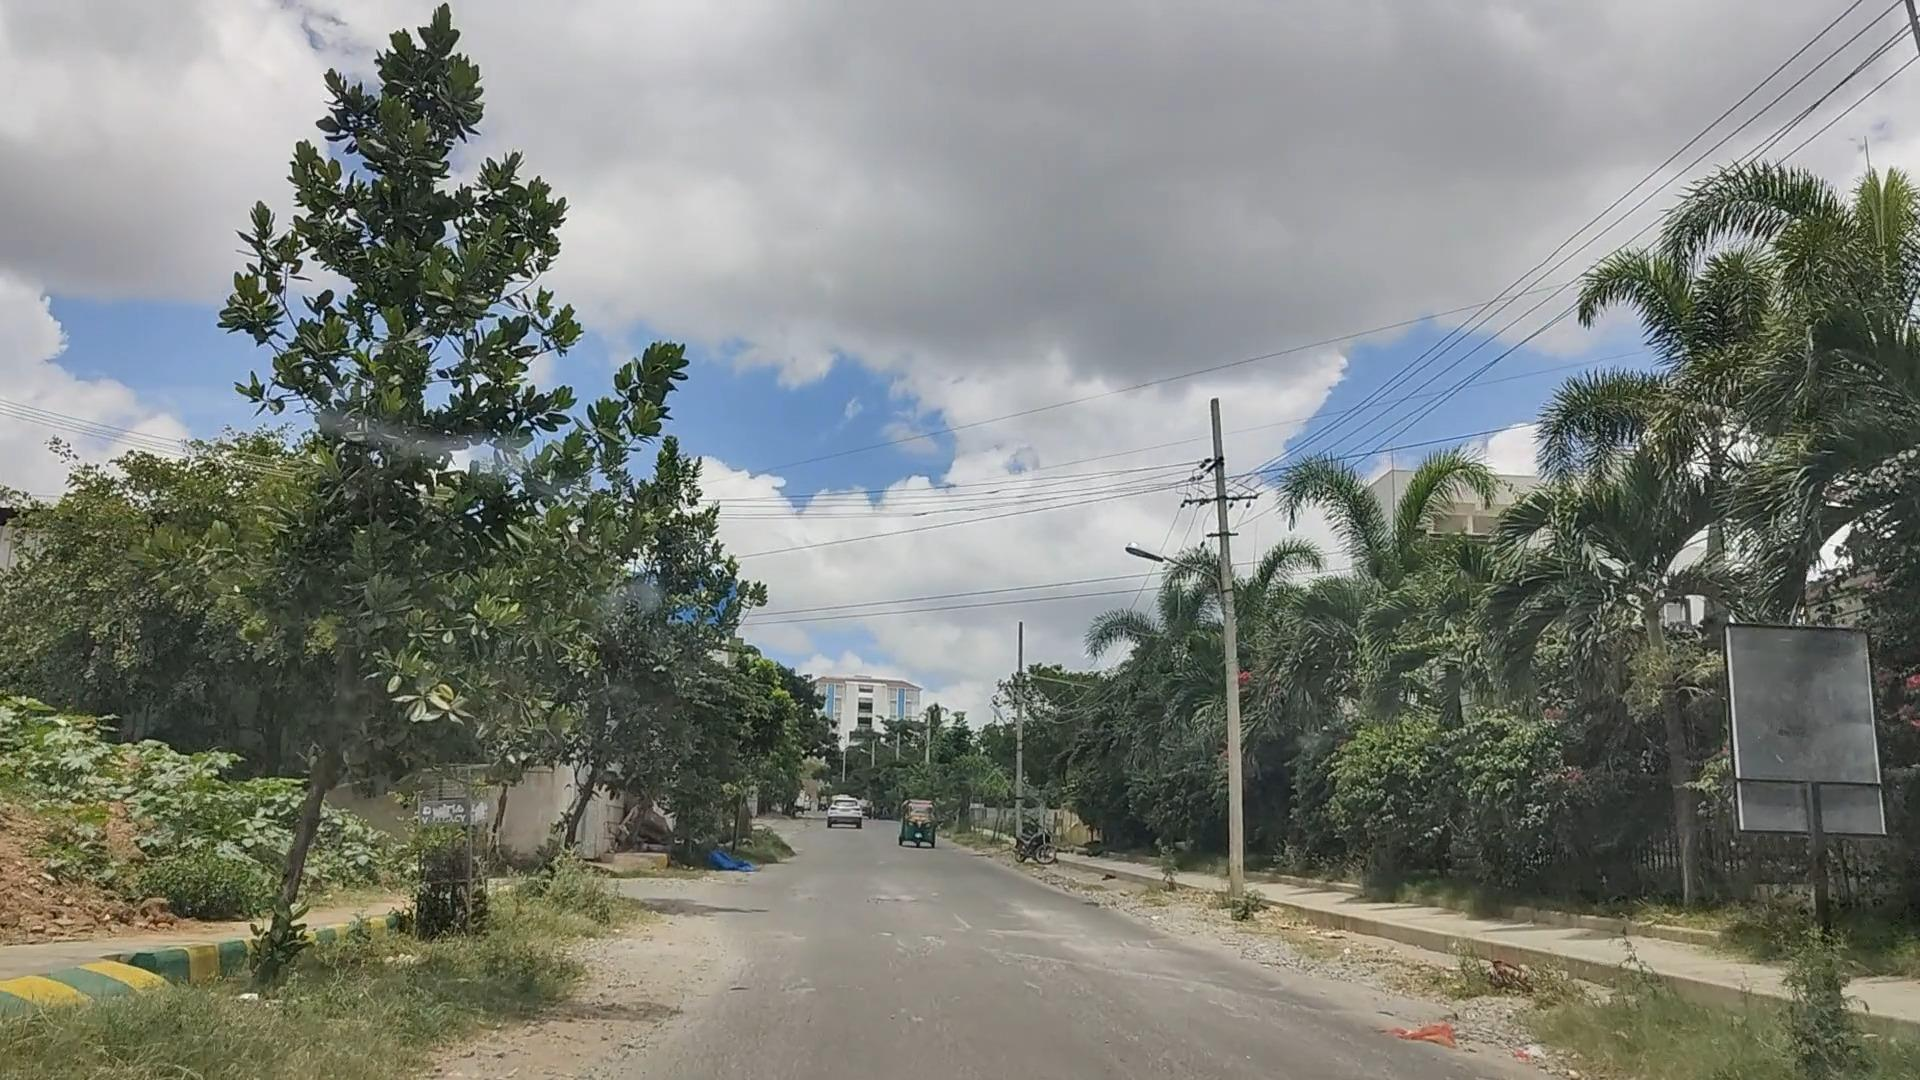RoadDamages: (886, 884, 1159, 988)
